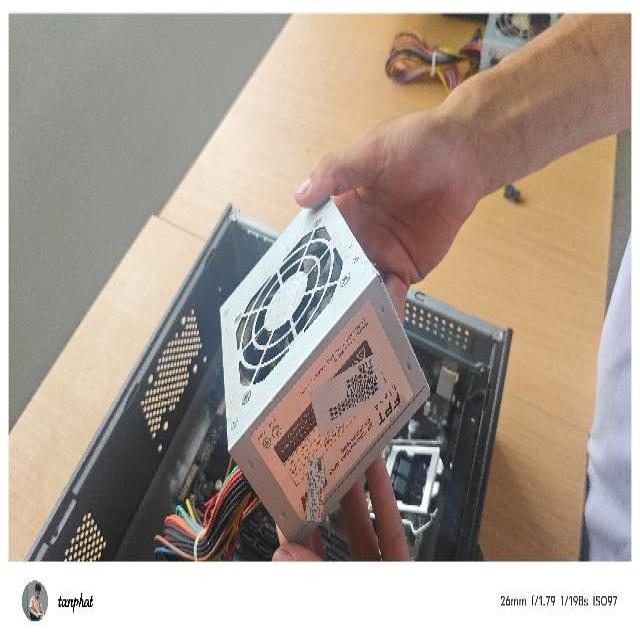PSU: (218, 187, 432, 548)
